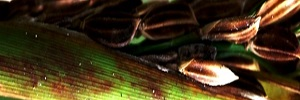RiceSheathBrownRot: (1, 42, 295, 100)
